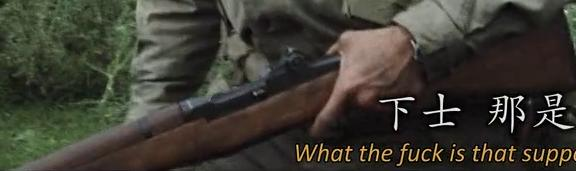gun: (1, 0, 576, 171)
